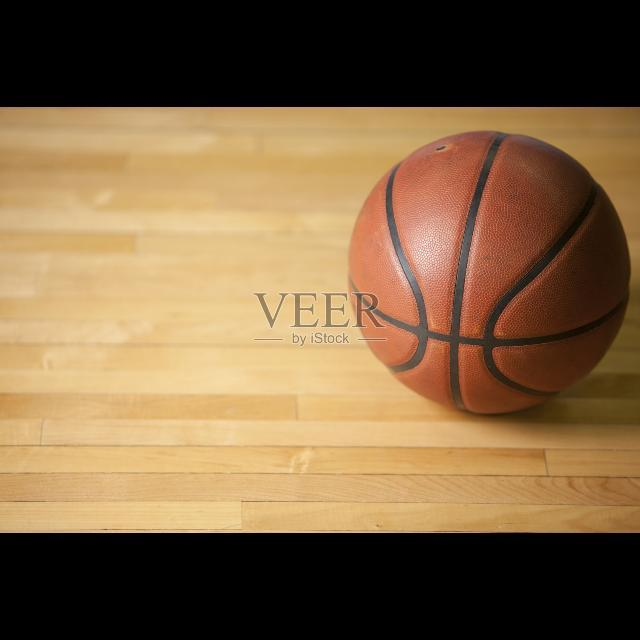basketball: (350, 132, 630, 416)
